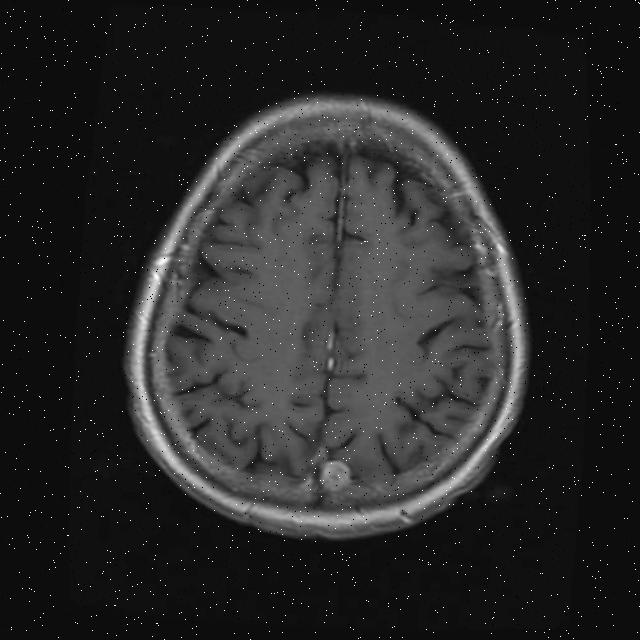Meningioma: (316, 455, 356, 495)
